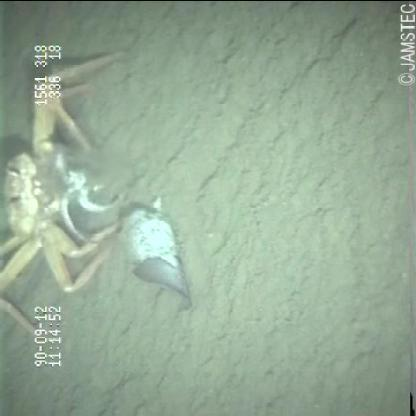Bio: (1, 50, 195, 340)
